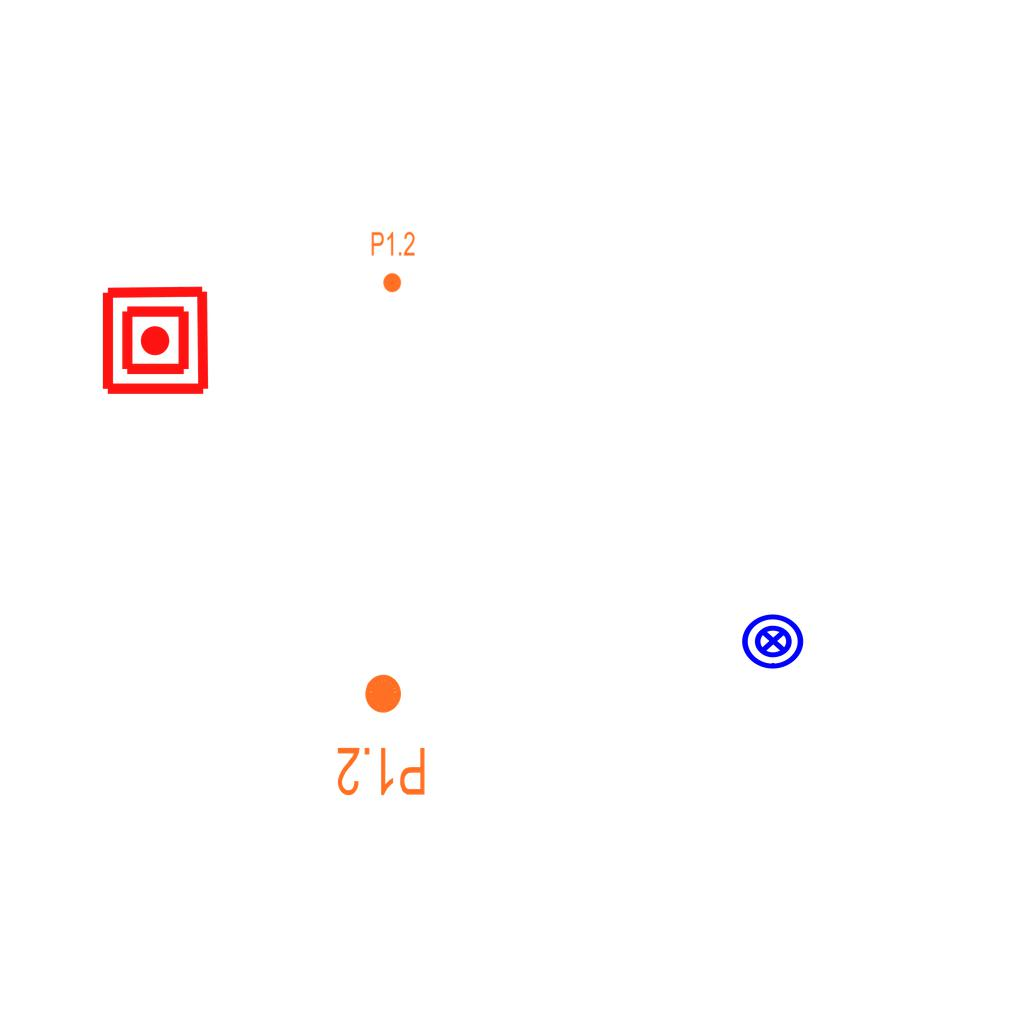Downlight_LED_Einbauleuchten_Flur: (335, 671, 428, 799), (370, 230, 416, 294)
NAM-Nichtautomatischer_Melder: (99, 284, 212, 397)
Taster_beleuchtet: (740, 608, 806, 674)
